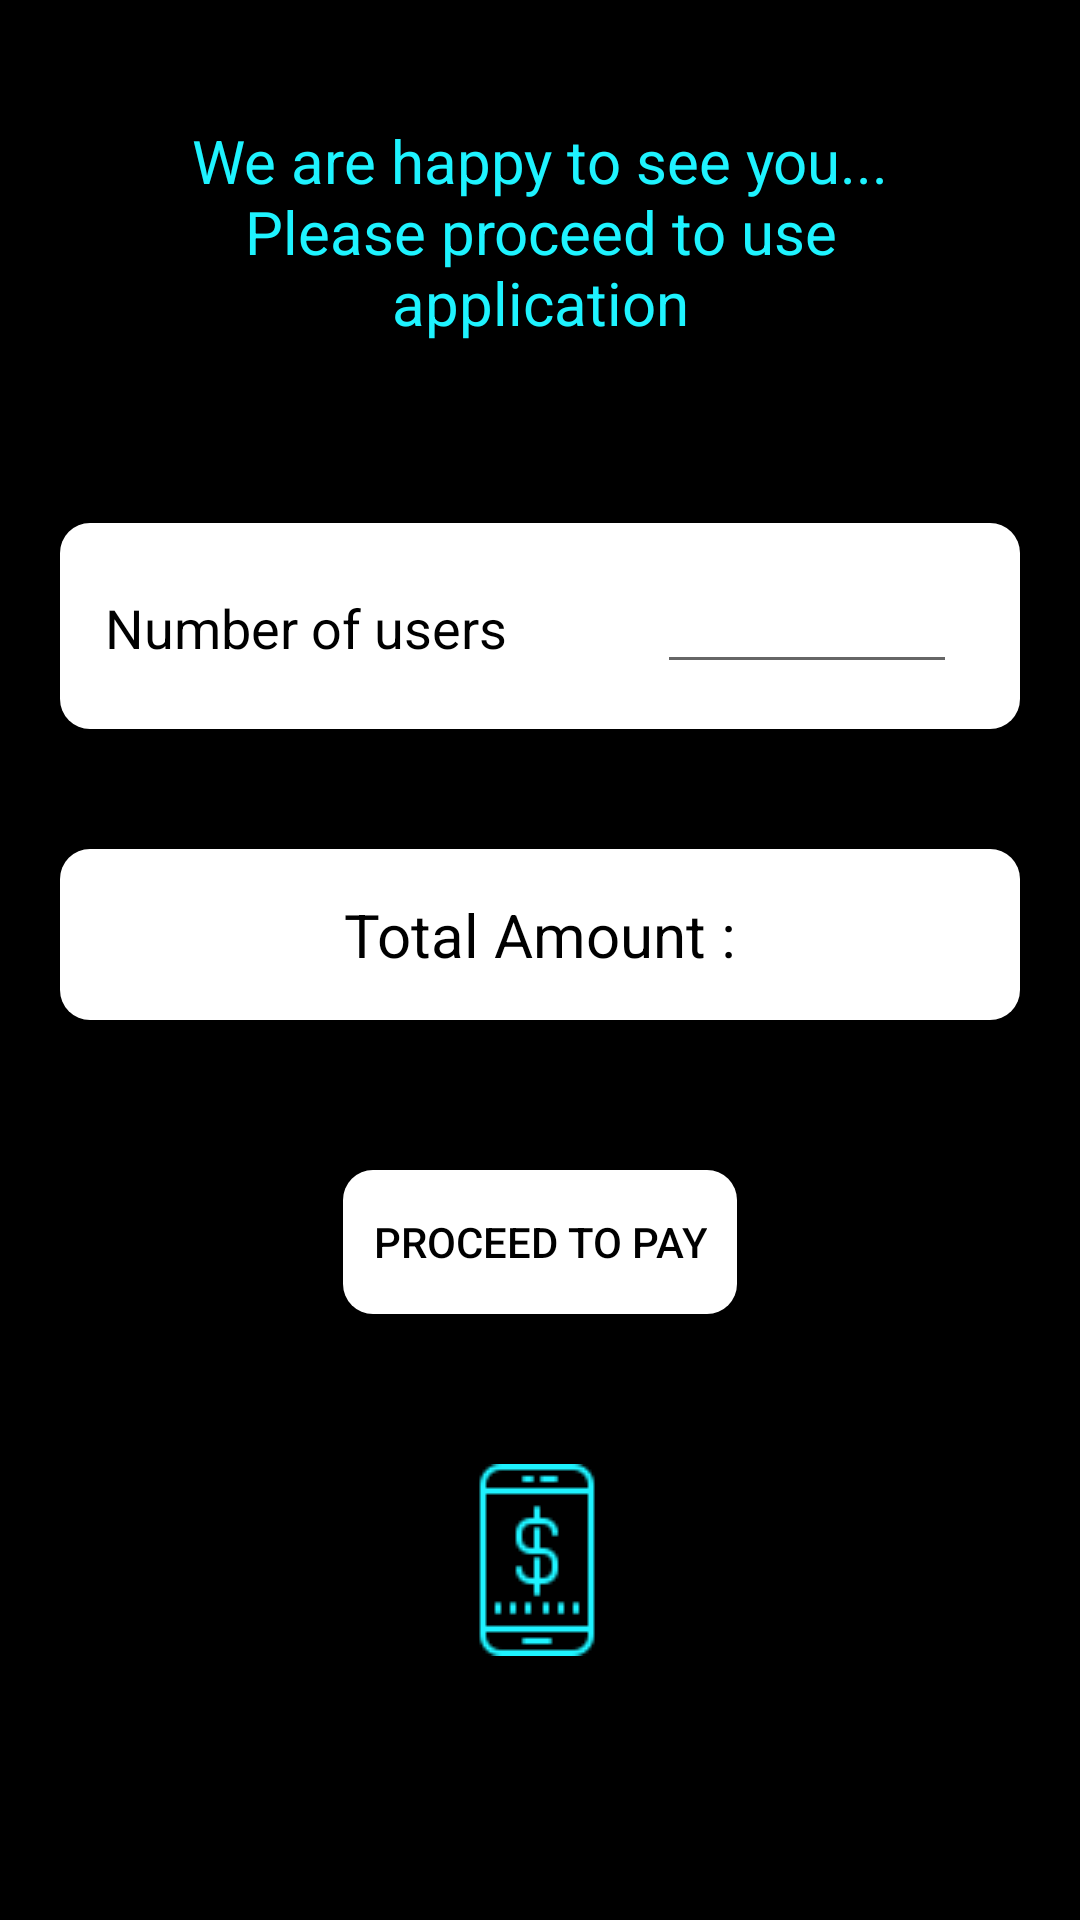

Where to tap for icons on this 1080x1920 app screen, as point (x, y):
payment: point (537, 1560)
